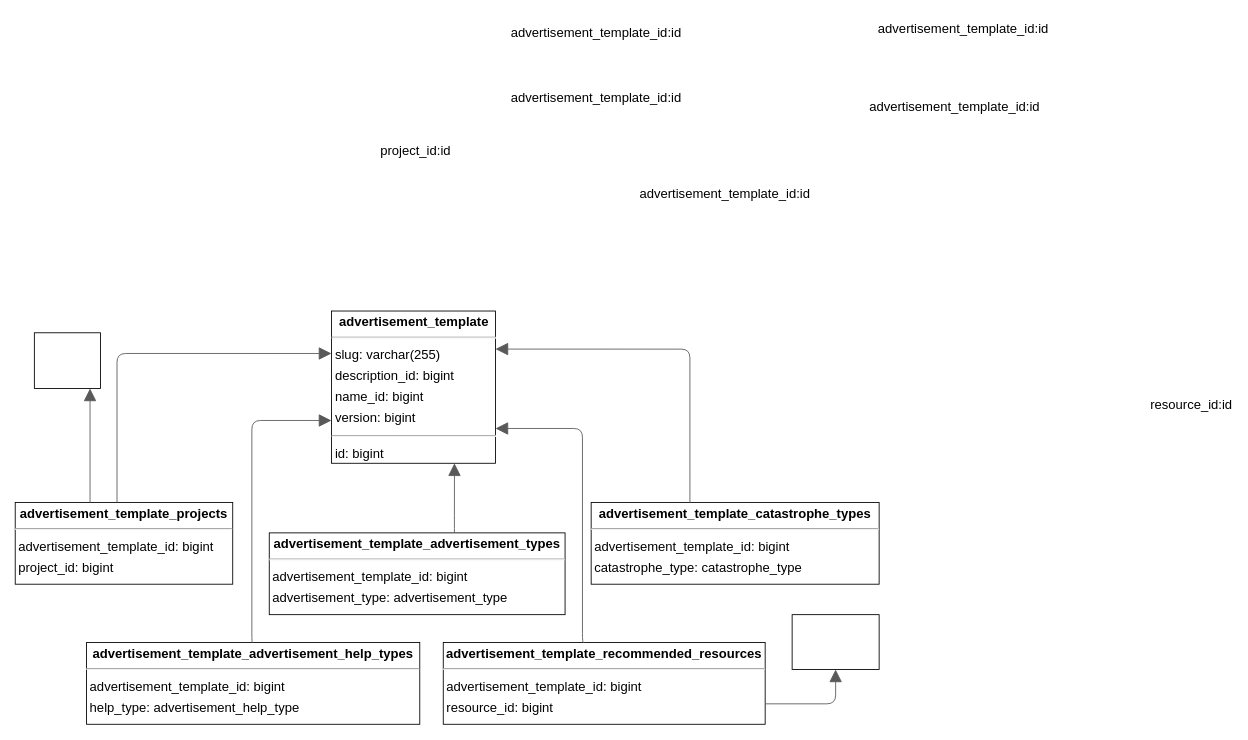
Image size: 1248x740. Some labels were removed from this diagram. The centre of each missing label's shape, as x and y in pixels:
project id: bigint: (x=66, y=360)
resource id: bigint: (x=835, y=641)
